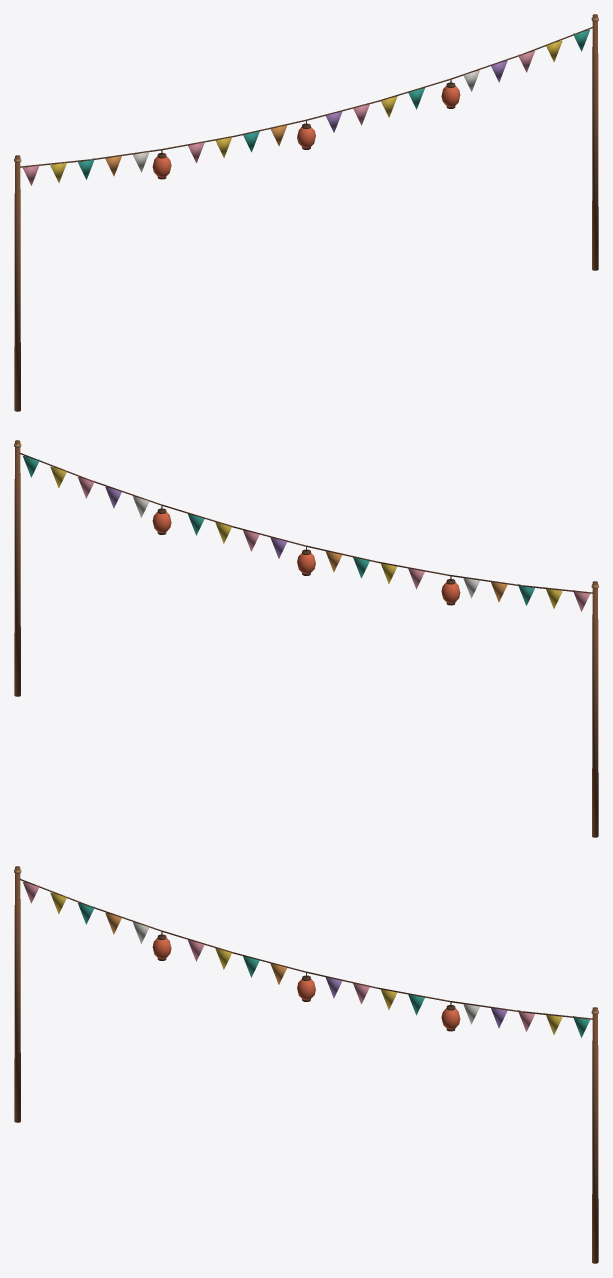
File: bunting_row.glb
3 renders of one model, top to bottom at view 1: azimuth 30°, elevation 25°; view 2: azimuth 150°, elevation 25°; view 3: azimuth 330°, elevation 25°, orthographic.
Visible parts, largest first — view 1: bunting_row, bunting_row_glow; view 2: bunting_row, bunting_row_glow; view 3: bunting_row, bunting_row_glow.
Boxes of the visible parts, <box> form: bunting_row: <box>14,14,598,411</box>; bunting_row_glow: <box>152,85,460,177</box>; bunting_row: <box>14,440,598,837</box>; bunting_row_glow: <box>152,511,460,603</box>; bunting_row: <box>14,866,598,1263</box>; bunting_row_glow: <box>152,937,460,1029</box>.
Bounding box in the file's own units: 11.81 × 4.91 × 0.34.
